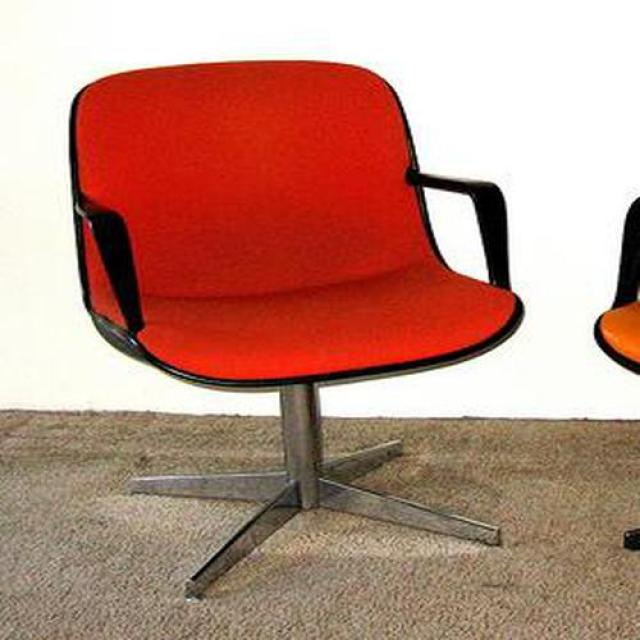chair: (69, 61, 526, 603)
